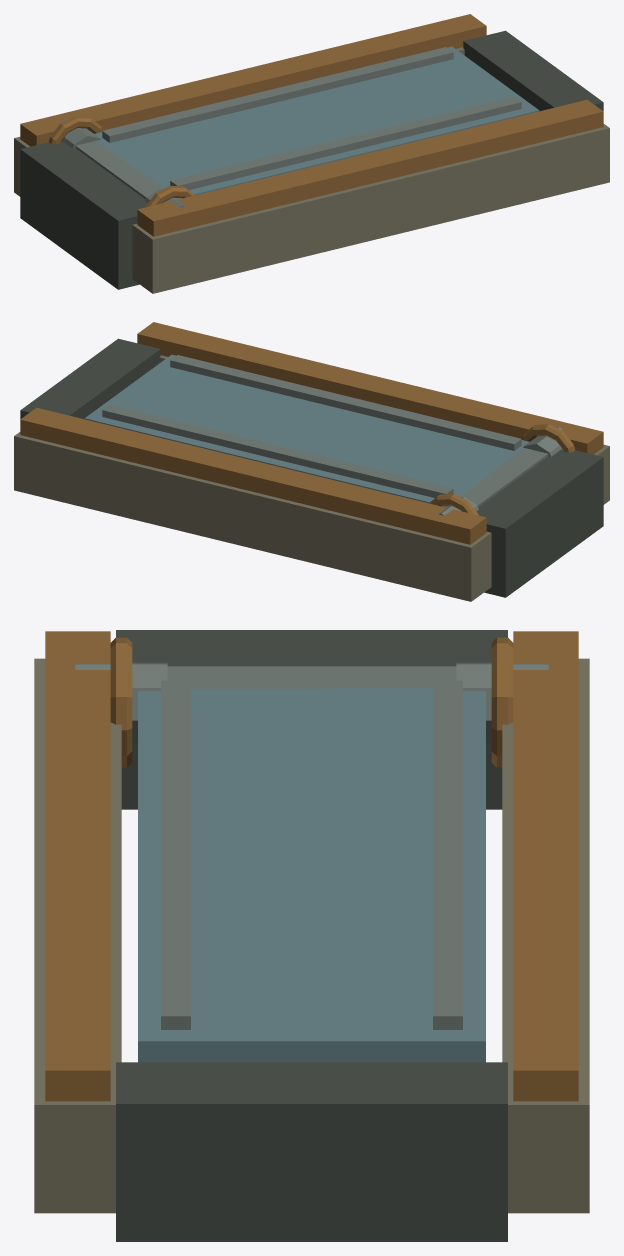
File: HINGED_FLAP.shadow.glb
3 views of the same model, one above another, from view 1: azimuth 30°, elevation 25°; view 2: azimuth 150°, elevation 25°; view 3: azimuth 270°, elevation 25° (orthographic). The views are drawn at different scales.
Visible parts, largest first — view 1: Body_Mesh, FlapPivot_Mesh; view 2: Body_Mesh, FlapPivot_Mesh; view 3: Body_Mesh, FlapPivot_Mesh.
Boxes of the visible parts, left/top/right/bottom form: Body_Mesh: left=14, top=14, right=609, bottom=293; FlapPivot_Mesh: left=75, top=46, right=539, bottom=199; Body_Mesh: left=14, top=322, right=609, bottom=601; FlapPivot_Mesh: left=84, top=354, right=548, bottom=507; Body_Mesh: left=34, top=630, right=589, bottom=1241; FlapPivot_Mesh: left=138, top=666, right=485, bottom=1062.
Size of the model in its own units: 2.06 by 0.36 by 1.02.
